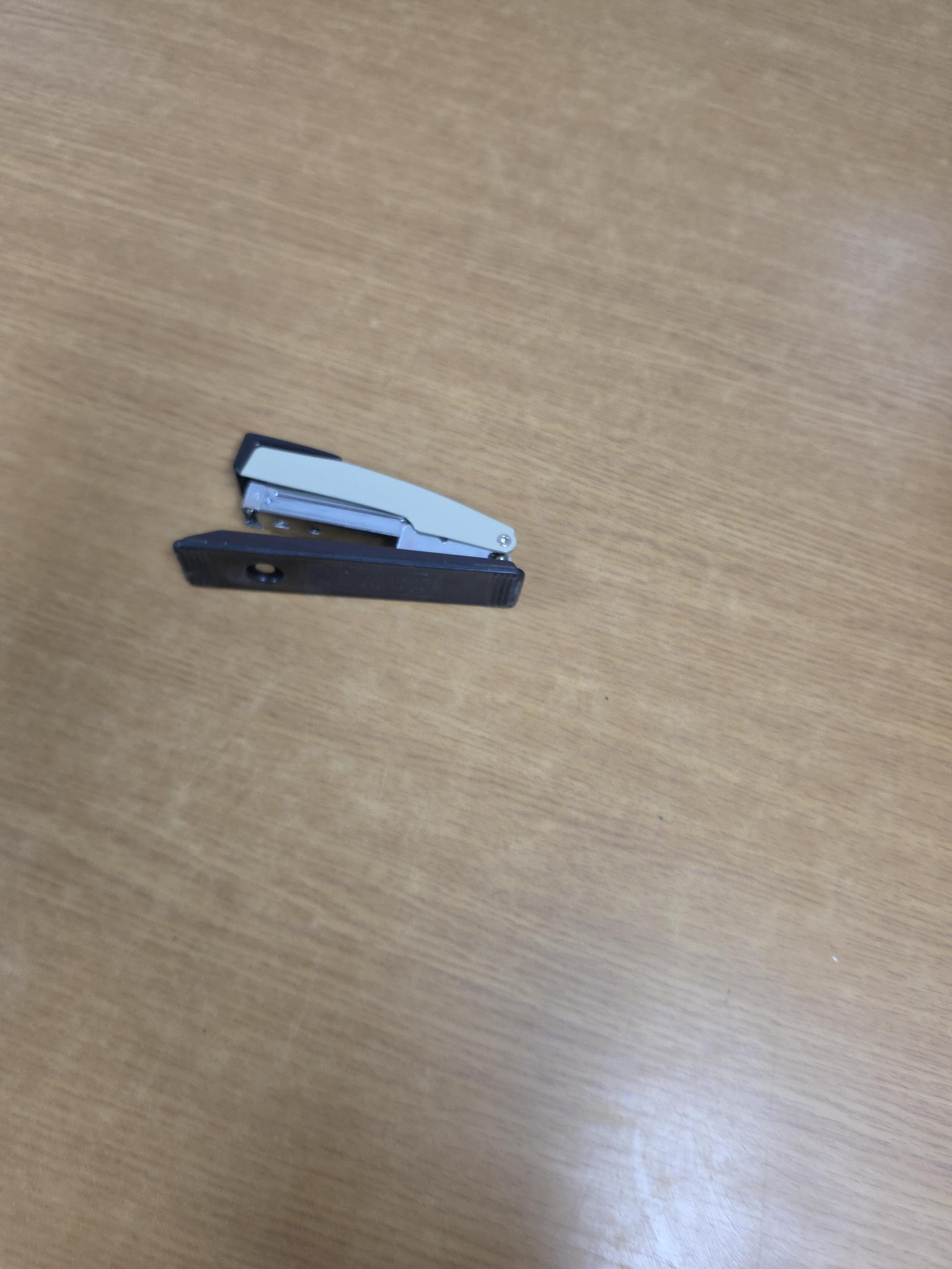stapler: (172, 433, 525, 609)
